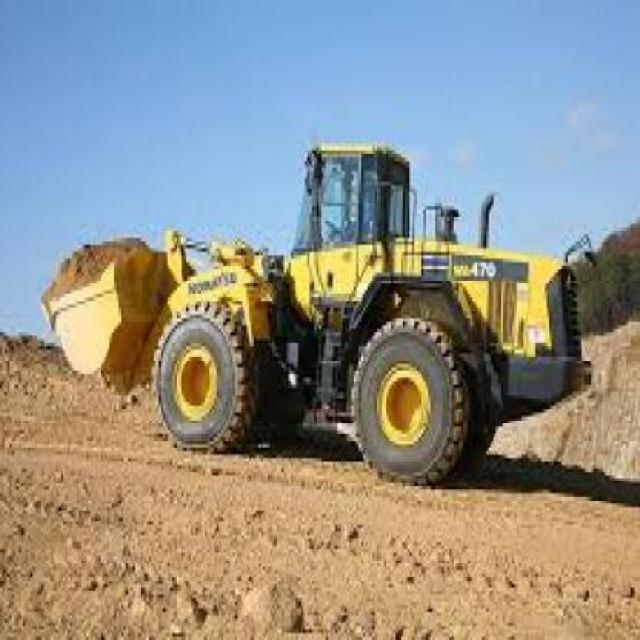buldozerpayloadergrader: (29, 119, 600, 512)
